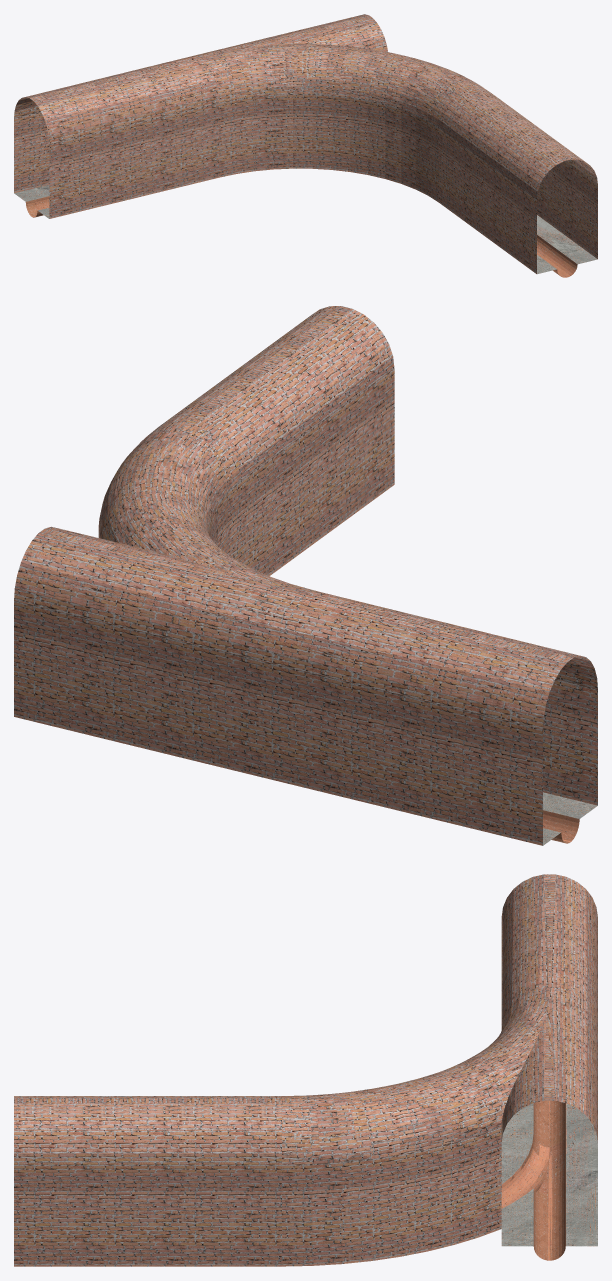
The model's file is T130_gut30_Y_5m_5m.dae.
3 views of the same model, one above another, from view 1: azimuth 30°, elevation 25°; view 2: azimuth 150°, elevation 25°; view 3: azimuth 270°, elevation 25° (orthographic). The views are drawn at different scales.
Visible parts, largest first — view 1: SketchUp (×4); view 2: SketchUp (×3); view 3: SketchUp (×5).
Part boxes in pixels (x1,y1,x2,y2): SketchUp (×4): (14, 14, 597, 277); SketchUp (×3): (14, 306, 597, 845); SketchUp (×5): (14, 874, 597, 1266).
Bounding box in the file's own units: 215 × 215 × 64.96.
